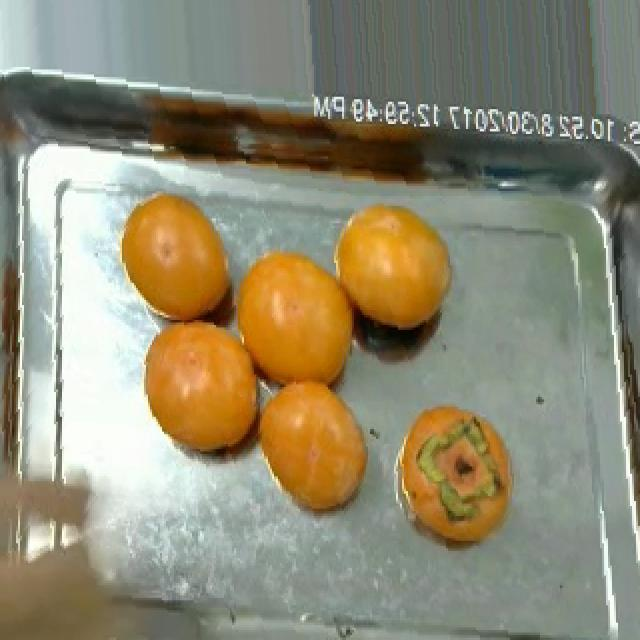Fruit: (320, 188, 468, 350), (132, 305, 276, 471), (390, 392, 526, 558), (246, 372, 386, 531), (112, 178, 244, 338)
